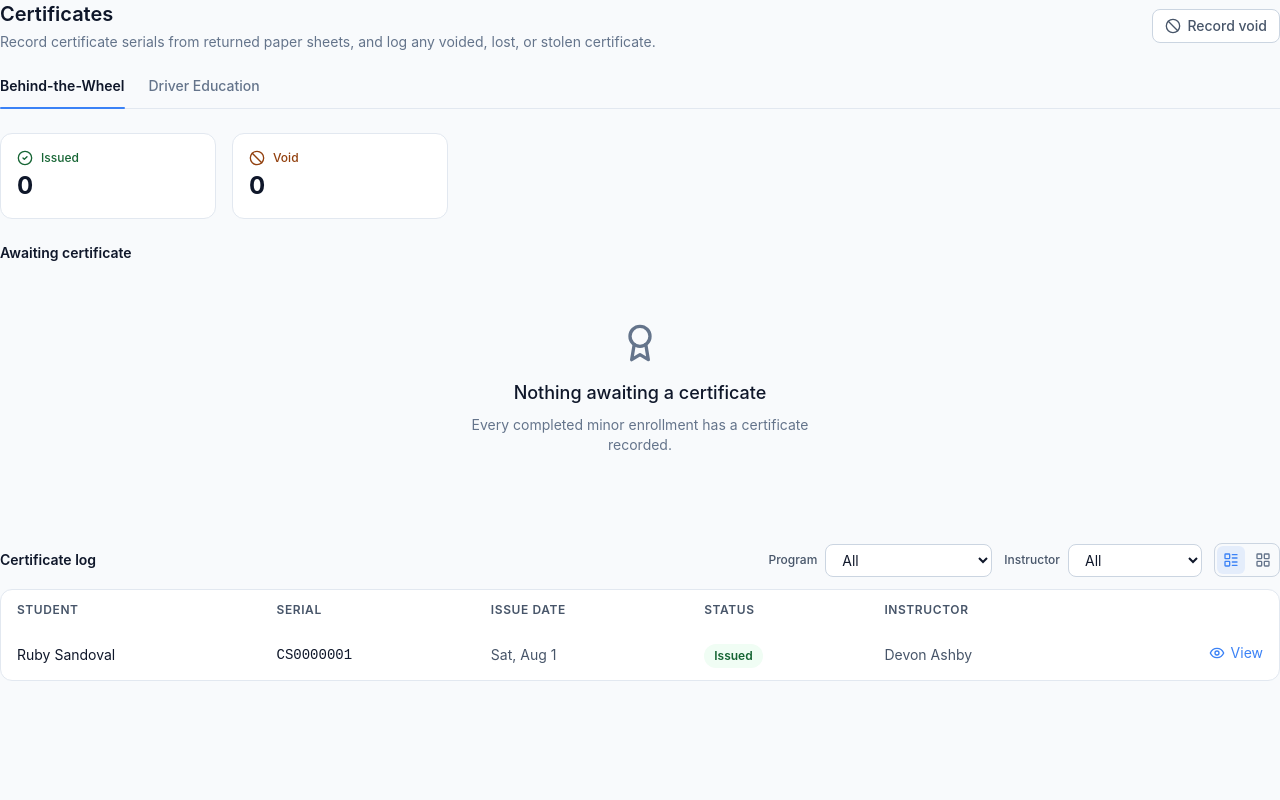
Certificates - digital certificate view › opens the certificate view with the assembled document when View is clicked
Expected: the text "Ruby Sandoval" is shown, [1, 630, 260, 680]
Click the button "View" at [1236, 653], box [1209, 643, 1263, 663]
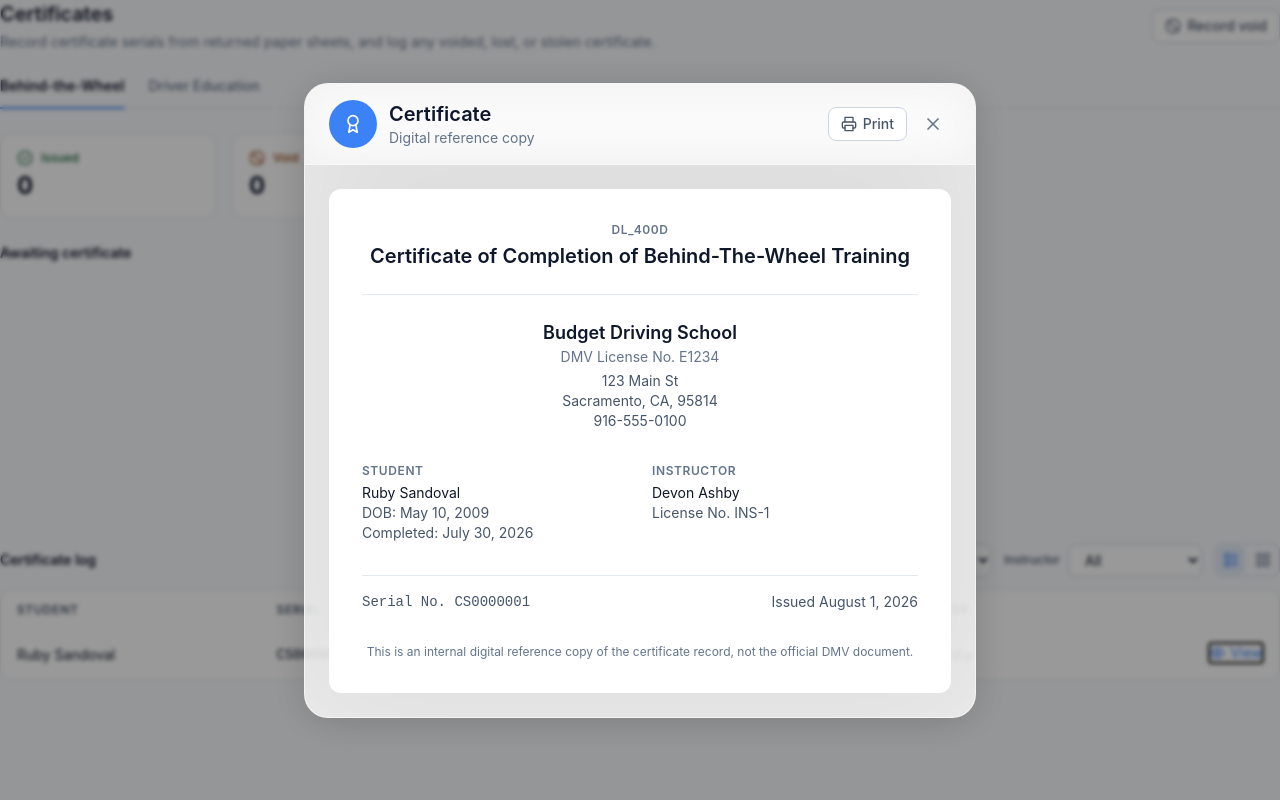
Expected: the heading "Certificate of Completion of Behind-The-Wheel Training" is shown, [362, 242, 918, 270]
Expected: the text "Budget Driving School" is shown, [543, 322, 737, 342]
Expected: the text "DMV License No. E1234" is shown, [561, 348, 719, 364]
